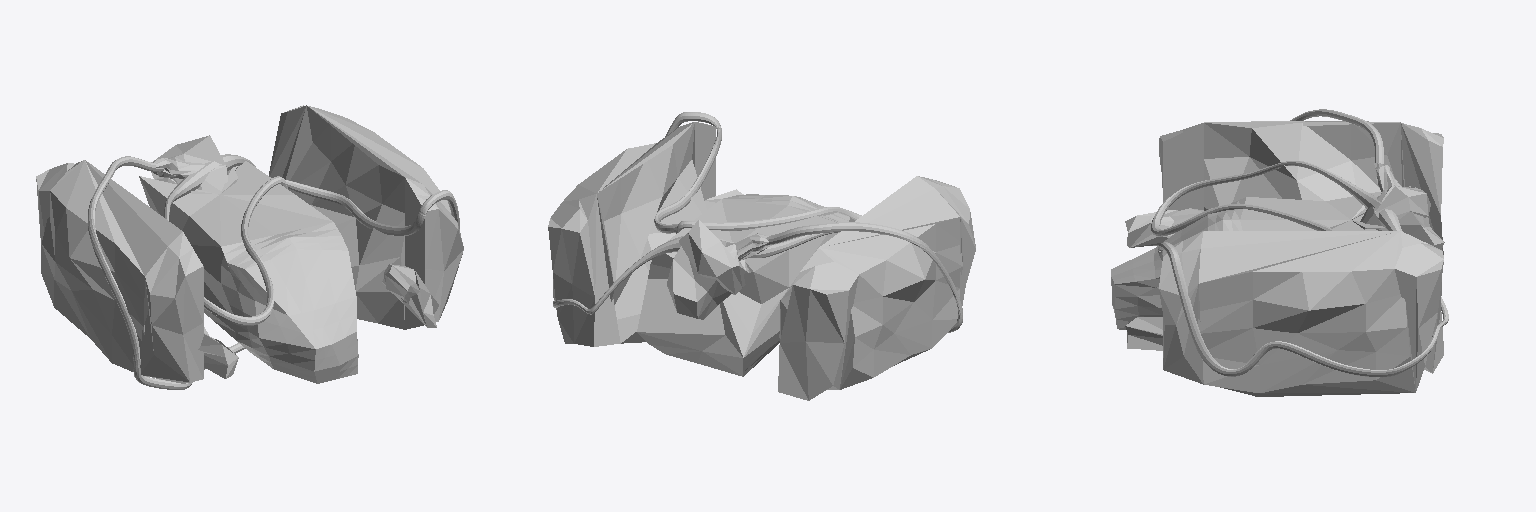
The model's file is HeartBottom2.obj.
The picture shows the model from 3 angles: view 1: azimuth 30°, elevation 25°; view 2: azimuth 150°, elevation 25°; view 3: azimuth 270°, elevation 25°; orthographic projection.
Parts seen in each view (by area): view 1: Plane, Cube, Cube.001, NurbsPath, HeartTop, Cube.003, Cube.002; view 2: Cube, Cube.001, Plane, NurbsPath, HeartTop, Heart; view 3: Cube.001, Cube, Plane, NurbsPath, HeartTop, Cube.002, Cube.003, Heart.
Part boxes in pixels (x1,y1,x2,y2): Plane: (139, 161, 358, 383); Cube: (36, 160, 203, 383); Cube.001: (269, 105, 463, 329); NurbsPath: (88, 154, 459, 389); HeartTop: (151, 135, 227, 193); Cube.003: (382, 264, 438, 327); Cube.002: (198, 327, 238, 378); Cube: (778, 176, 975, 400); Cube.001: (548, 122, 715, 346); Plane: (637, 194, 854, 376); NurbsPath: (553, 112, 962, 332); HeartTop: (679, 220, 771, 294); Heart: (667, 246, 732, 319); Cube.001: (1159, 231, 1443, 396); Cube: (1159, 121, 1443, 254); Plane: (1111, 186, 1410, 329); NurbsPath: (1151, 109, 1448, 377); HeartTop: (1360, 163, 1430, 225); Cube.002: (1125, 208, 1203, 247); Cube.003: (1125, 317, 1162, 350); Heart: (1399, 212, 1444, 249).
Bounding box in the file's own units: 18.3 × 8.84 × 15.6.